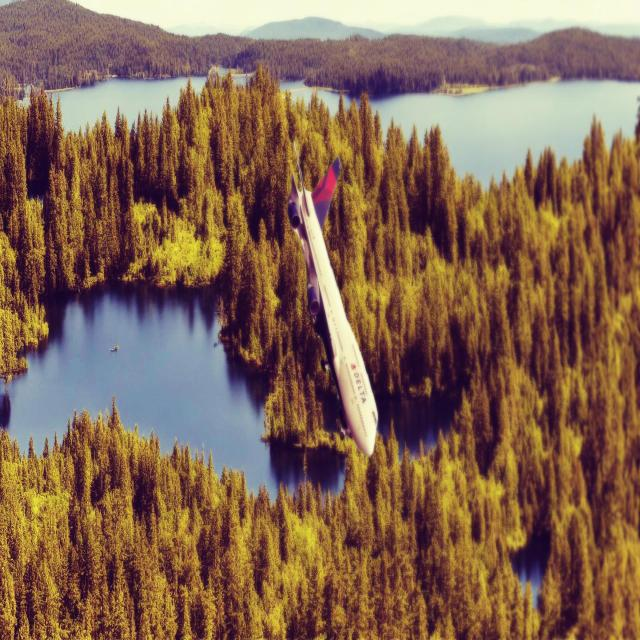airplane: (286, 140, 378, 457)
